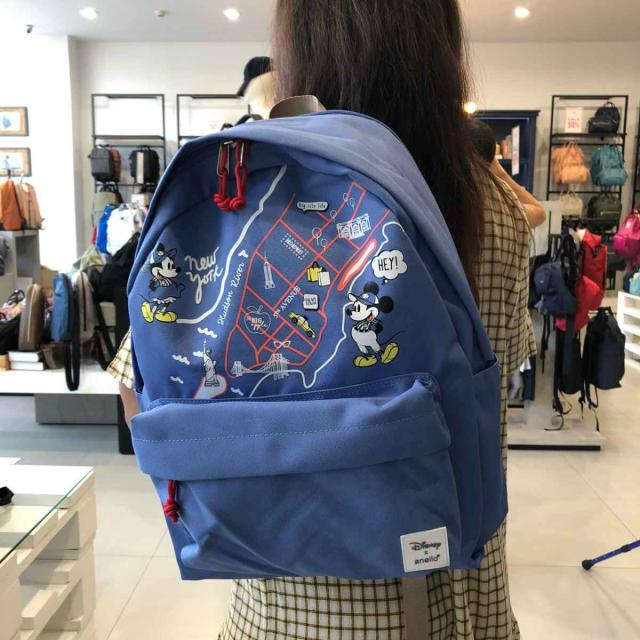Handbag: (126, 110, 508, 590)
